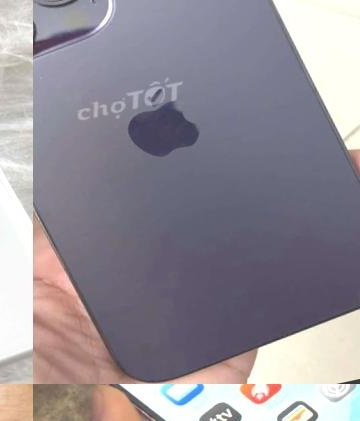scratch: (33, 0, 108, 27)
